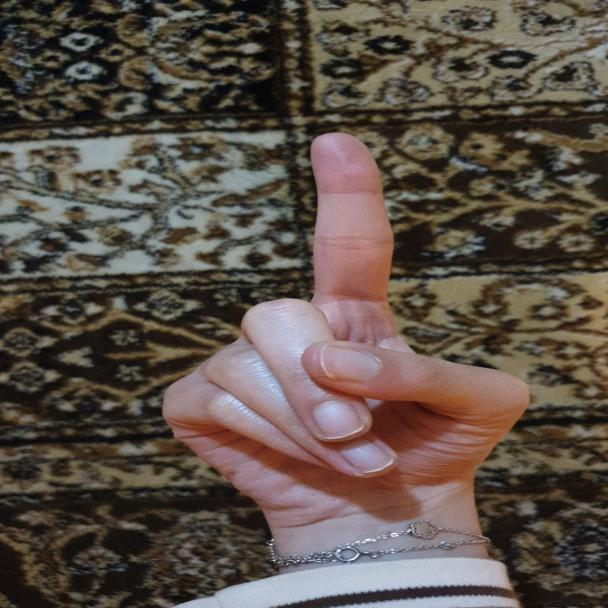one: (172, 130, 532, 566)
